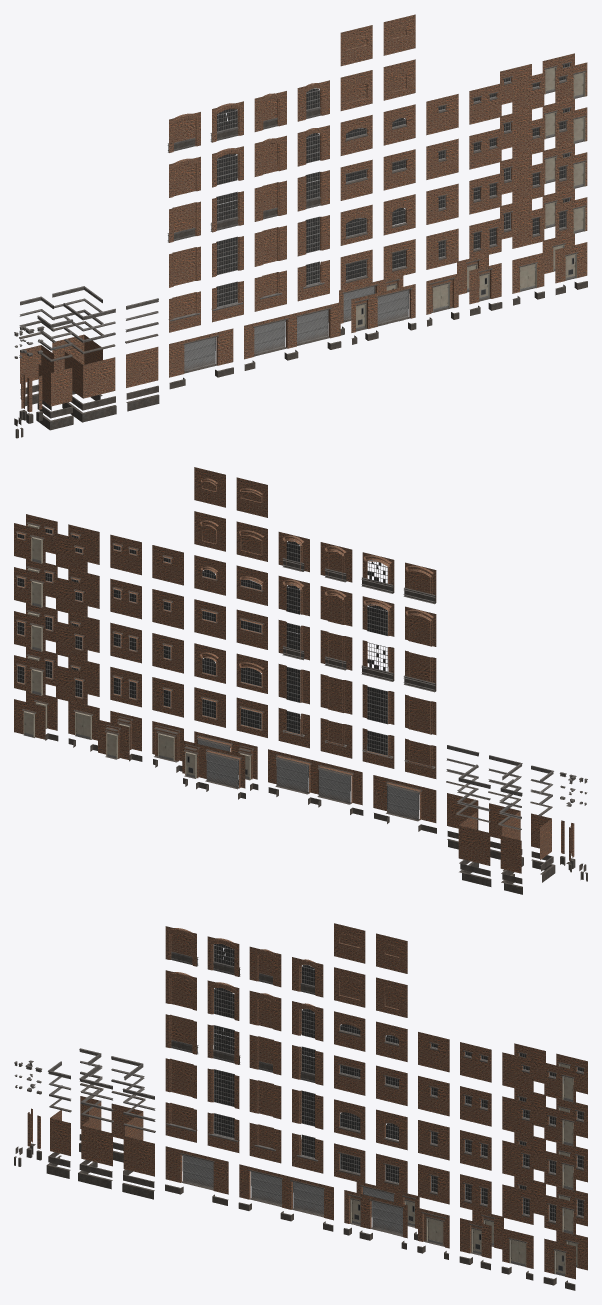
Rendered from modular_factory_facade.glb.
3 views of the same model, one above another, from view 1: azimuth 30°, elevation 25°; view 2: azimuth 150°, elevation 25°; view 3: azimuth 330°, elevation 25° (orthographic).
Visible parts, largest first — view 1: door_garage_double_01, wall_standard_corner_large_01, wall_door_garage_double_01, door_garage_door_01, wall_door_garage_centered_01, wall_window_centered_medium_05, wall_window_tall_small_09, wall_standard_standard_01, wall_window_centered_large_05, wall_window_centered_medium_06, wall_window_tall_small_07, wall_window_centered_large_06 (+57 smaller); view 2: door_garage_double_01, door_garage_door_02, wall_door_garage_double_01, wall_door_garage_centered_01, wall_standard_corner_large_02, wall_window_tall_small_09, wall_window_tall_small_07, wall_window_tall_small_06, wall_window_tall_large_09, wall_window_tall_large_07, wall_window_centered_medium_06, wall_window_centered_medium_05 (+62 smaller); view 3: door_garage_double_01, wall_door_garage_double_01, door_garage_door_01, wall_door_garage_centered_01, wall_standard_corner_large_01, wall_window_tall_small_07, wall_window_tall_small_09, wall_window_tall_small_06, wall_window_tall_large_09, wall_window_centered_large_05, wall_window_tall_large_07, wall_window_centered_medium_05 (+66 smaller).
Part boxes in pixels (box(x1,y1,x2,y2)): door_garage_double_01: box(253, 307, 331, 356); wall_standard_corner_large_01: box(64, 352, 115, 398); wall_door_garage_double_01: box(244, 302, 340, 359); door_garage_door_01: box(355, 288, 412, 331); wall_door_garage_centered_01: box(169, 328, 233, 377); wall_window_centered_medium_05: box(383, 59, 415, 100); wall_window_tall_small_09: box(254, 135, 286, 176); wall_standard_standard_01: box(126, 347, 158, 387); wall_window_centered_large_05: box(340, 70, 372, 110); wall_window_centered_medium_06: box(383, 14, 415, 55); wall_window_tall_small_07: box(254, 225, 286, 266); wall_window_centered_large_06: box(340, 25, 372, 66); door_garage_double_01: box(275, 754, 353, 804); door_garage_door_02: box(184, 744, 241, 789); wall_door_garage_double_01: box(268, 749, 362, 805); wall_door_garage_centered_01: box(373, 775, 436, 822); wall_standard_corner_large_02: box(458, 812, 490, 865); wall_window_tall_small_09: box(320, 586, 352, 626); wall_window_tall_small_07: box(320, 674, 352, 714); wall_window_tall_small_06: box(320, 718, 352, 758); wall_window_tall_large_09: box(405, 606, 436, 646); wall_window_tall_large_07: box(405, 694, 436, 734); wall_window_centered_medium_06: box(194, 467, 225, 507); wall_window_centered_medium_05: box(194, 511, 225, 551); door_garage_double_01: box(248, 1169, 324, 1217); wall_door_garage_double_01: box(239, 1164, 333, 1220); door_garage_door_01: box(348, 1194, 403, 1236); wall_door_garage_centered_01: box(165, 1146, 228, 1194); wall_standard_corner_large_01: box(81, 1112, 112, 1166); wall_window_tall_small_07: box(249, 1079, 281, 1119); wall_window_tall_small_09: box(249, 991, 281, 1031); wall_window_tall_small_06: box(249, 1123, 281, 1163); wall_window_tall_large_09: box(165, 970, 196, 1010); wall_window_centered_large_05: box(334, 967, 365, 1007); wall_window_tall_large_07: box(165, 1058, 196, 1098); wall_window_centered_medium_05: box(376, 977, 407, 1017).
Size of the model in its own units: 53.33 by 29 by 5.36.
6 materials, 6 textured.
